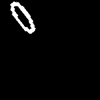chain: (11, 2, 34, 32)
